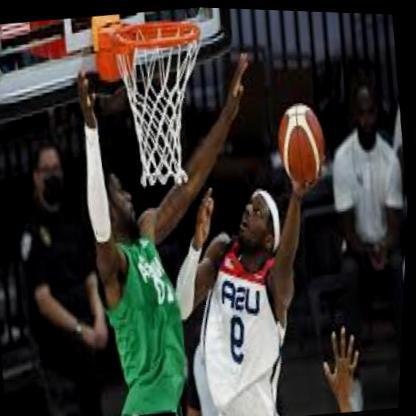basketball: (274, 100, 331, 185)
rim: (107, 12, 203, 59)
